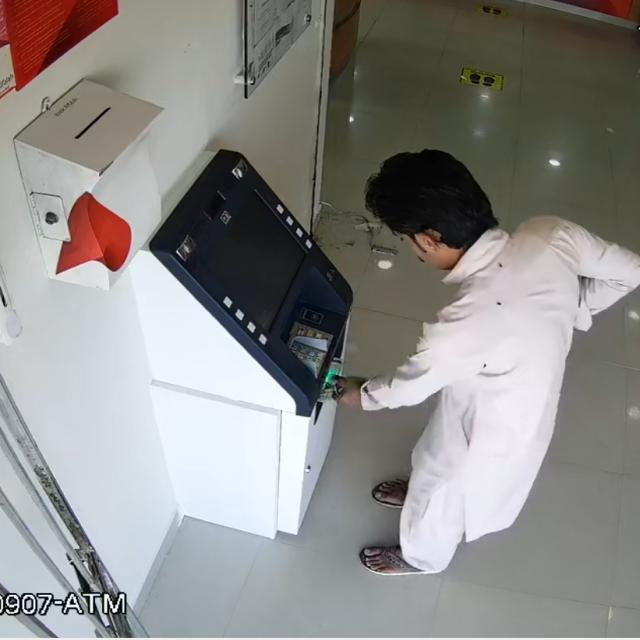note: (320, 351, 351, 409)
